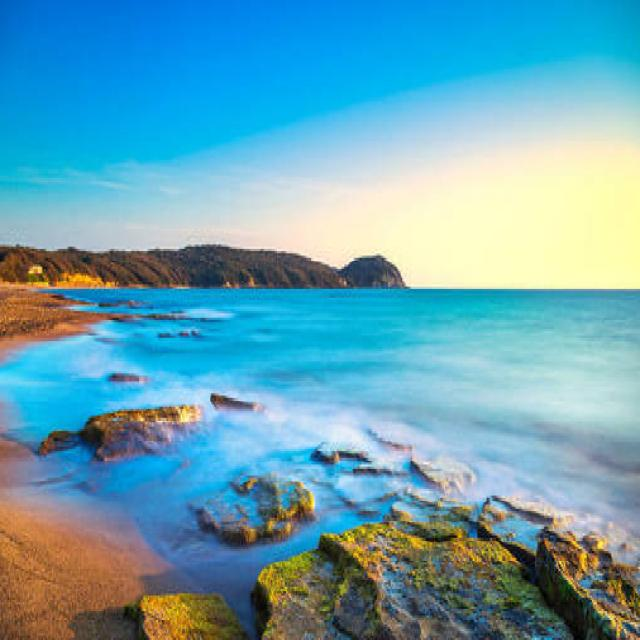island: (0, 215, 413, 304)
